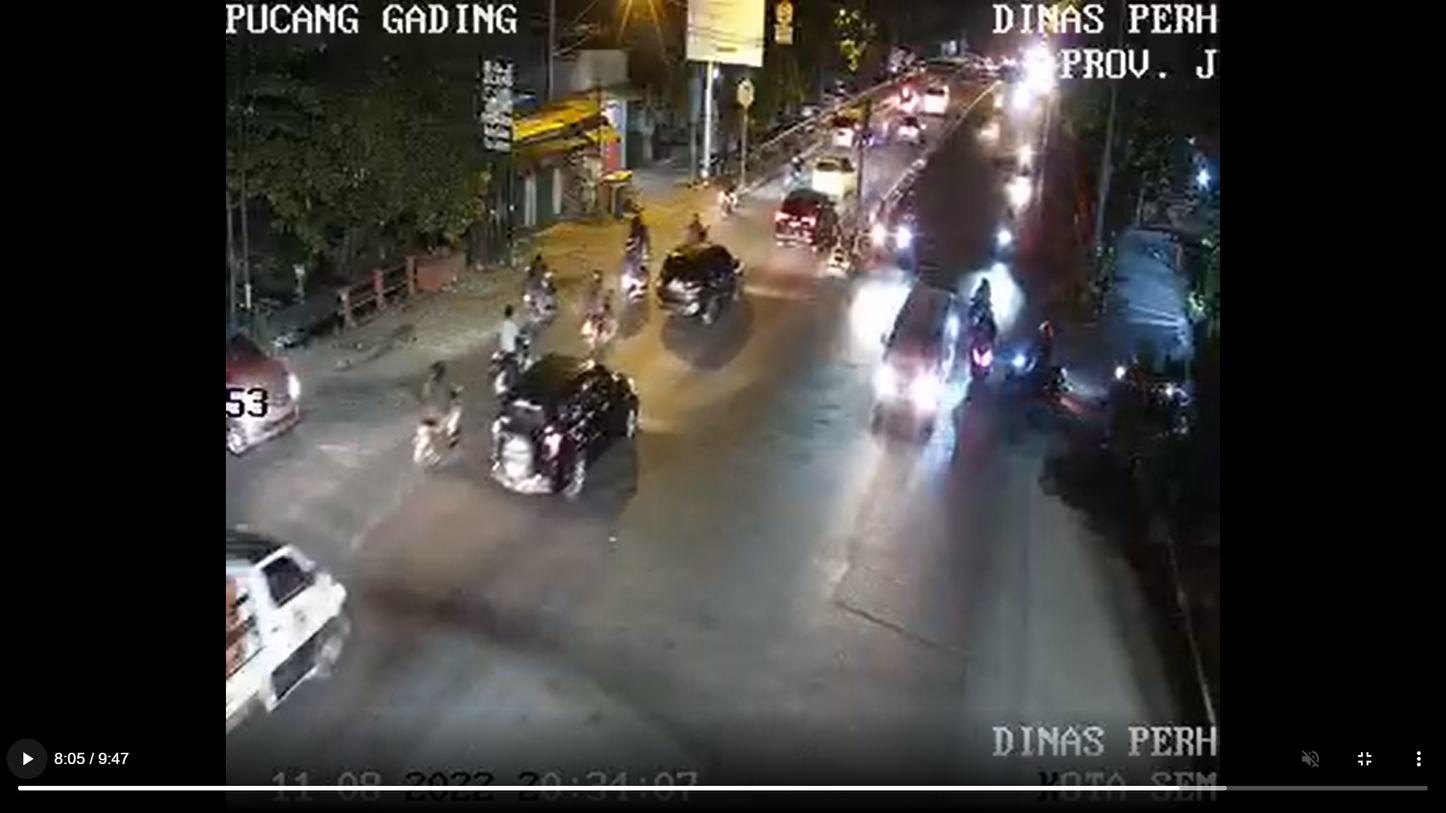without_helmet: (465, 298, 546, 404)
